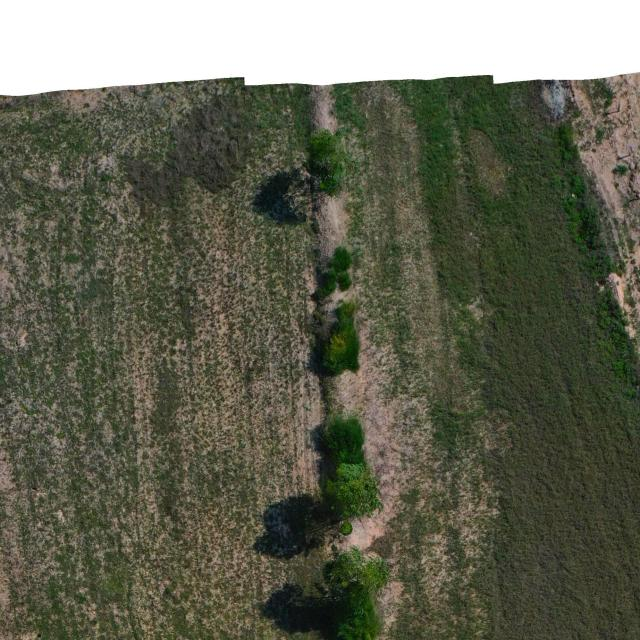Tree: (321, 543, 392, 640), (319, 298, 362, 375), (323, 464, 381, 517), (305, 127, 346, 197), (314, 245, 356, 302)
